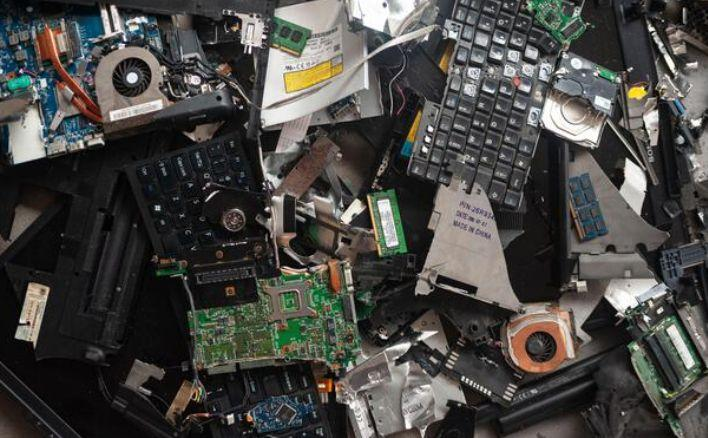electronic: (4, 4, 166, 163), (415, 6, 544, 204), (513, 1, 629, 173), (129, 123, 256, 277), (188, 263, 359, 373), (618, 290, 708, 427), (265, 136, 348, 260), (200, 362, 334, 437), (499, 303, 580, 375), (400, 45, 451, 159), (444, 343, 524, 405), (645, 11, 699, 100), (562, 169, 609, 241), (522, 0, 591, 48), (364, 186, 409, 258), (380, 96, 421, 175), (222, 10, 272, 56), (165, 379, 200, 429), (659, 241, 706, 278), (270, 16, 311, 57)
